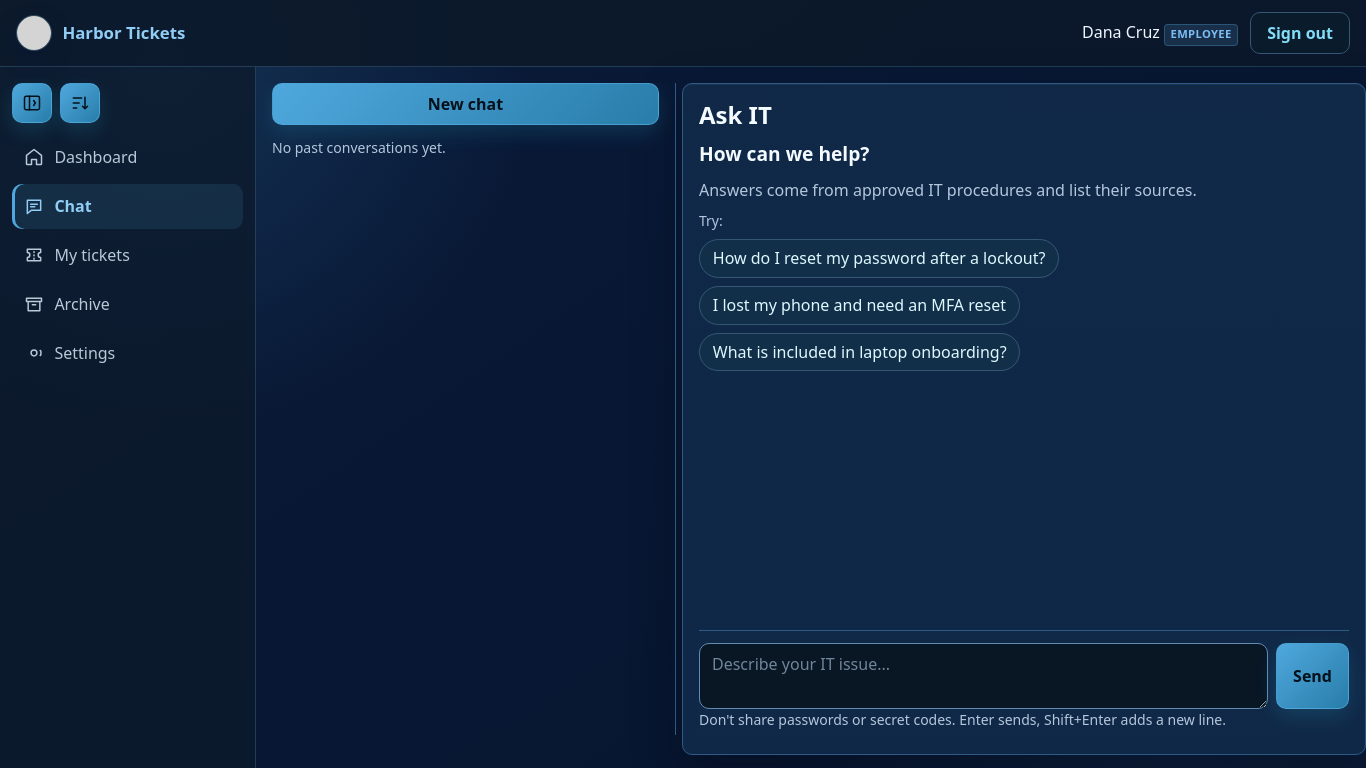
Test case: accessibility regressions (S4-06) › gives each screen a unique document title
The image size is (1366, 768).
Expected: the heading "Ask IT" is shown, [699,98,772,131]
Click the link "My tickets".
click(77, 255)  # box [24,244,130,266]
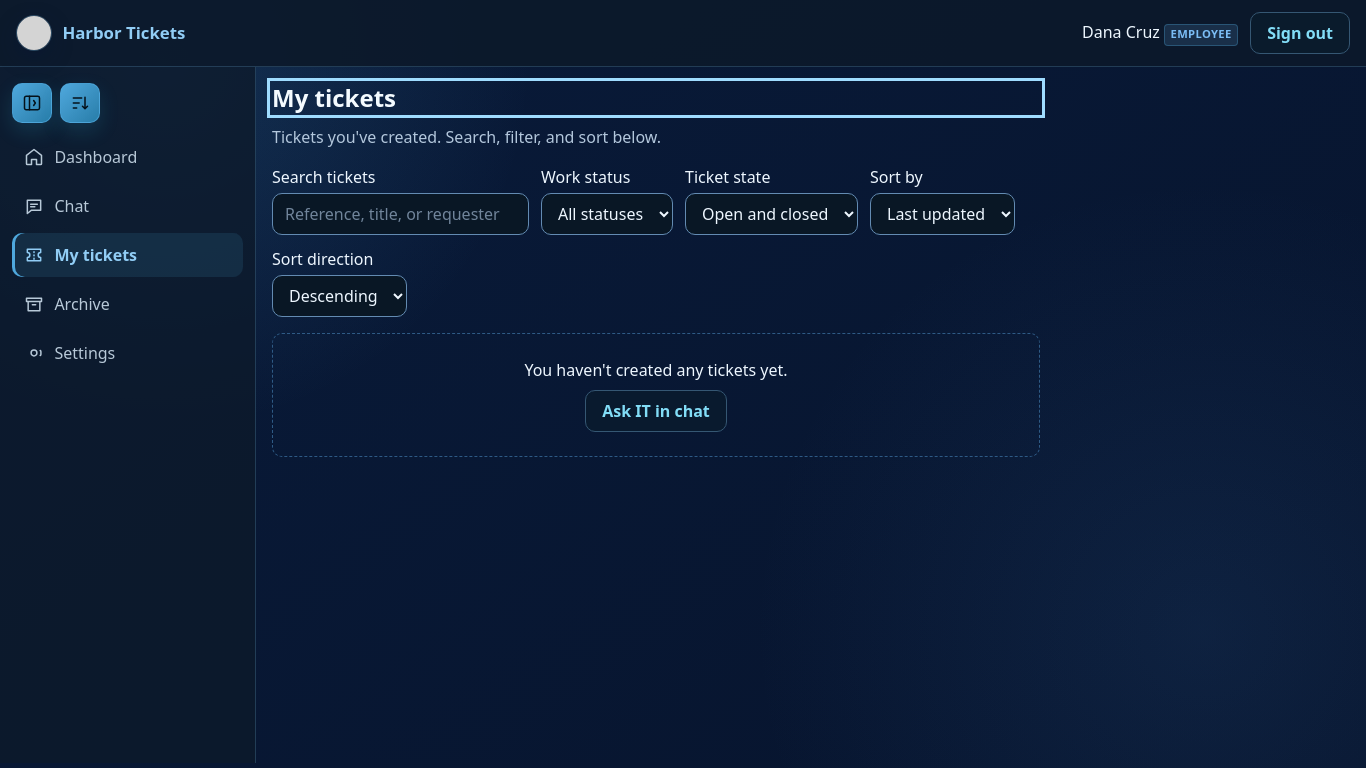
Expected: the heading "My tickets" is shown, [272,81,396,114]
